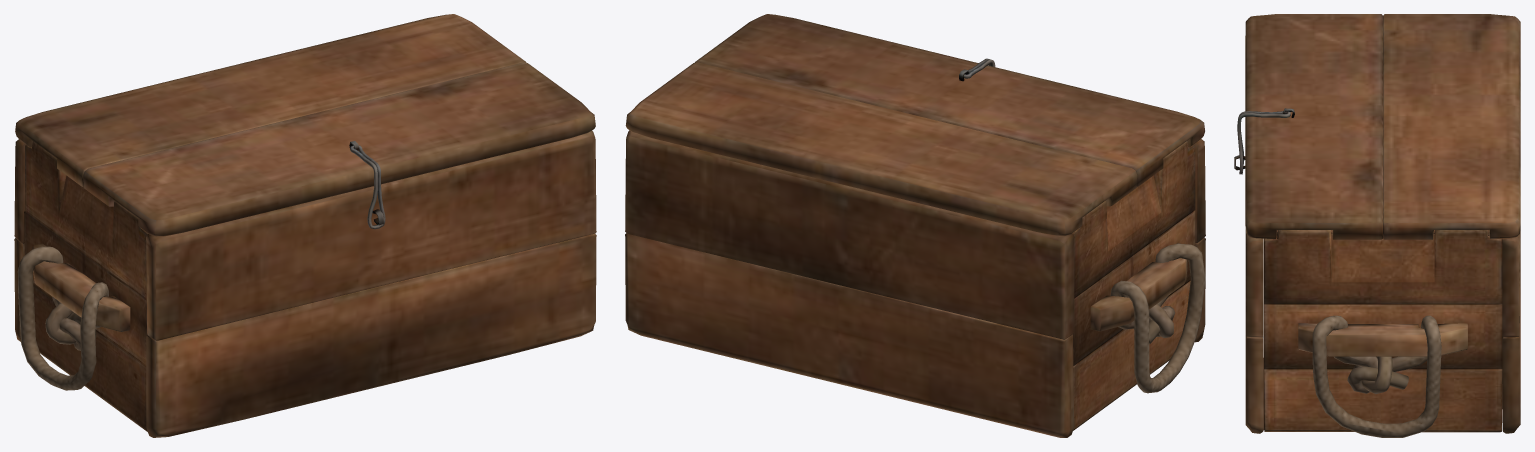
The model's file is wooden_crate_01.glb.
3 views of the same model, side by side, from view 1: azimuth 30°, elevation 25°; view 2: azimuth 150°, elevation 25°; view 3: azimuth 270°, elevation 25° (orthographic). The views are drawn at different scales.
Visible parts, largest first — view 1: wooden_crate_01, wooden_crate_01_lid, wooden_crate_01_latch; view 2: wooden_crate_01, wooden_crate_01_lid; view 3: wooden_crate_01_lid, wooden_crate_01, wooden_crate_01_latch.
Part boxes in pixels (x1=…): wooden_crate_01: x1=14, y1=131, x2=596, y2=437; wooden_crate_01_lid: x1=15, y1=14, x2=595, y2=236; wooden_crate_01_latch: x1=350, y1=145, x2=385, y2=229; wooden_crate_01: x1=625, y1=130, x2=1205, y2=437; wooden_crate_01_lid: x1=625, y1=14, x2=1204, y2=236; wooden_crate_01_lid: x1=1245, y1=14, x2=1520, y2=239; wooden_crate_01: x1=1234, y1=155, x2=1520, y2=437; wooden_crate_01_latch: x1=1237, y1=111, x2=1290, y2=174.
Size of the model in its own units: 0.8253 by 0.3495 by 0.4072.
1 material, 1 textured.
